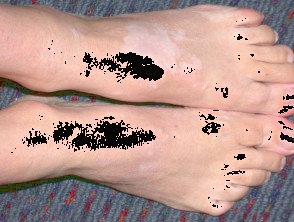vitiligo: (92, 11, 216, 98)
